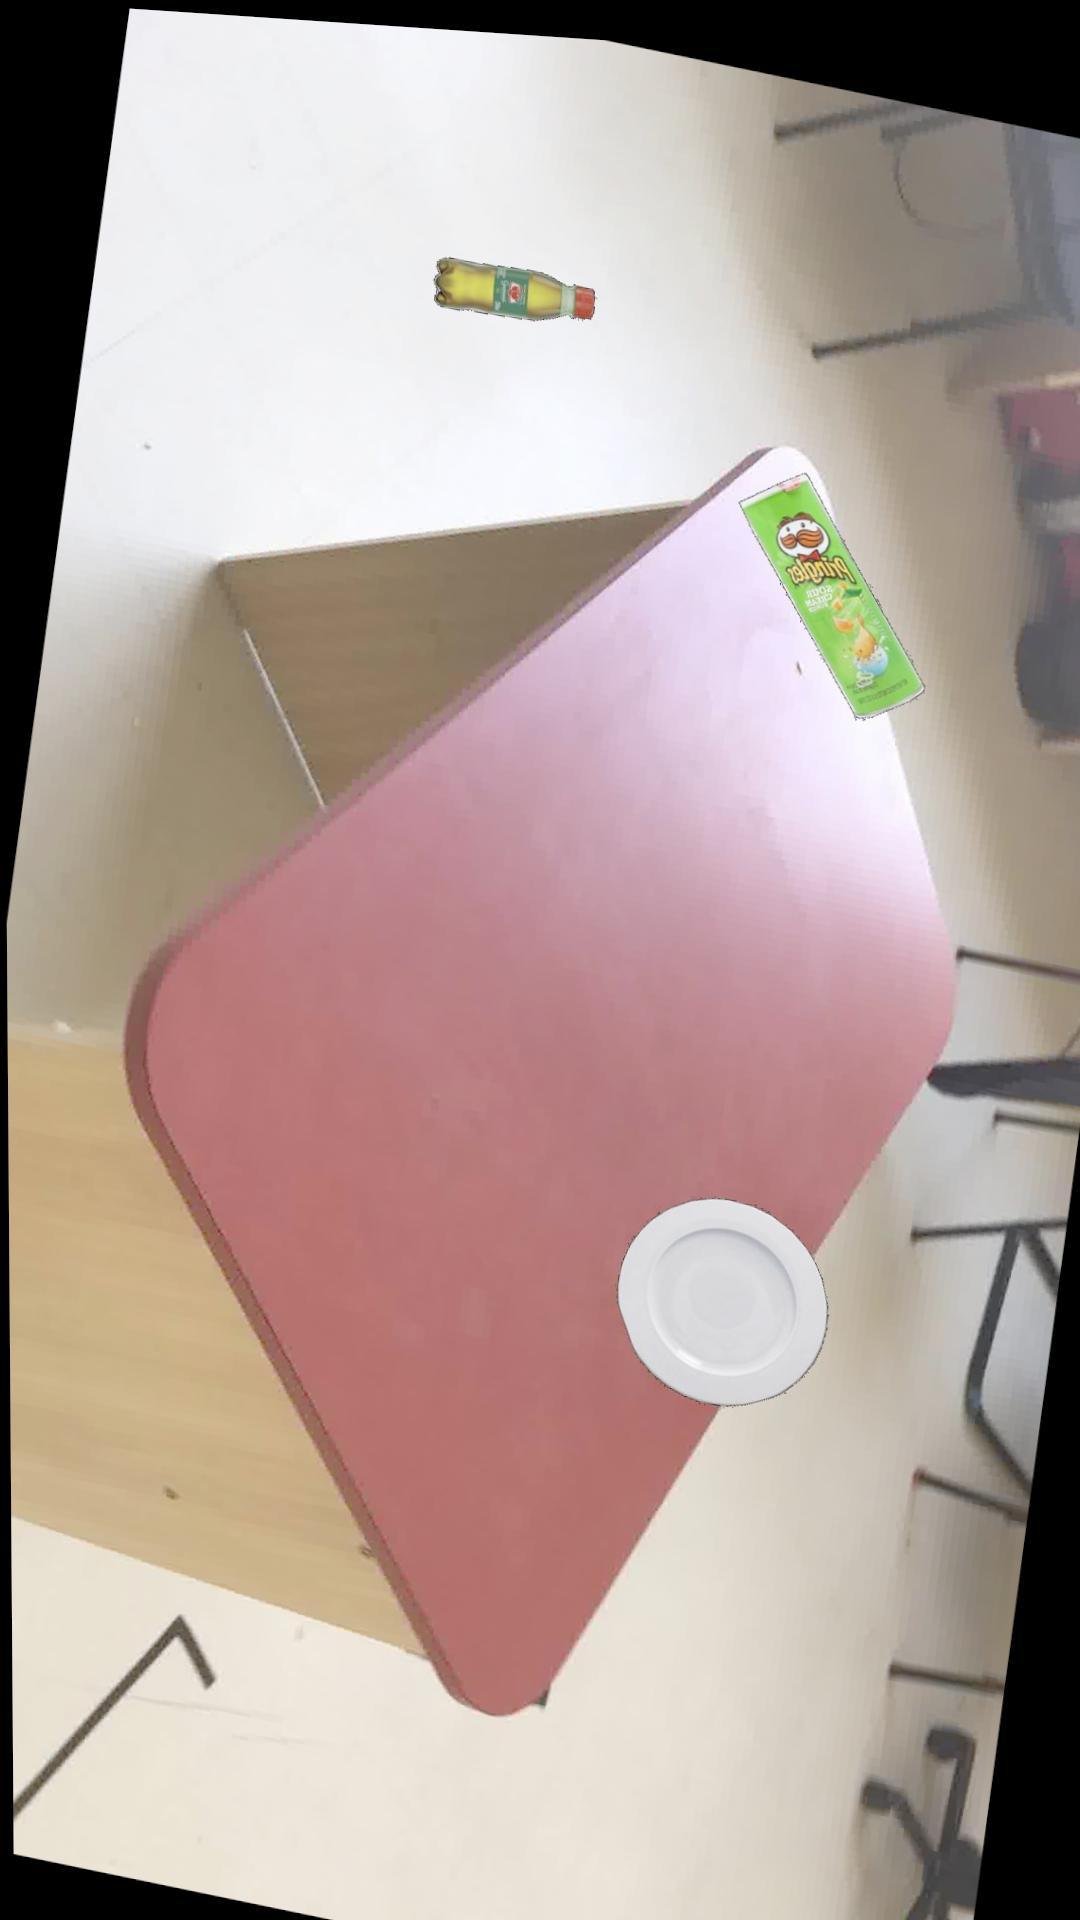guarana: (431, 252, 593, 314)
plate: (613, 1188, 825, 1398)
pringles: (736, 463, 922, 708)
